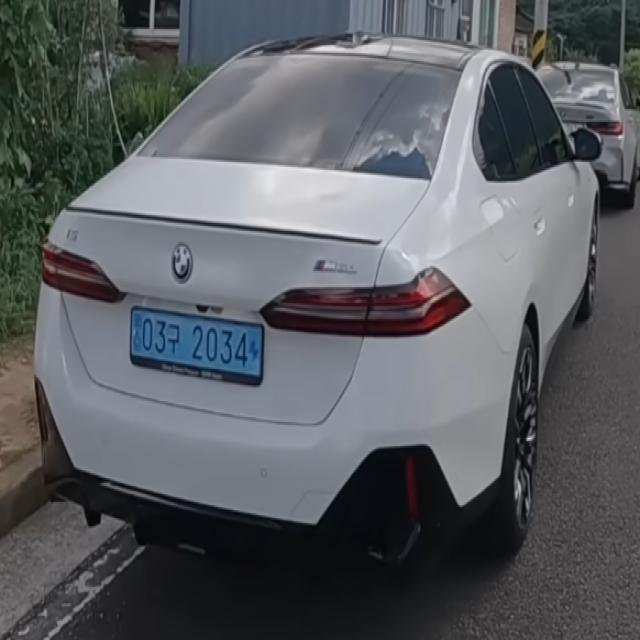car: (105, 298, 299, 400)
carev: (247, 323, 266, 383), (128, 307, 144, 365)
